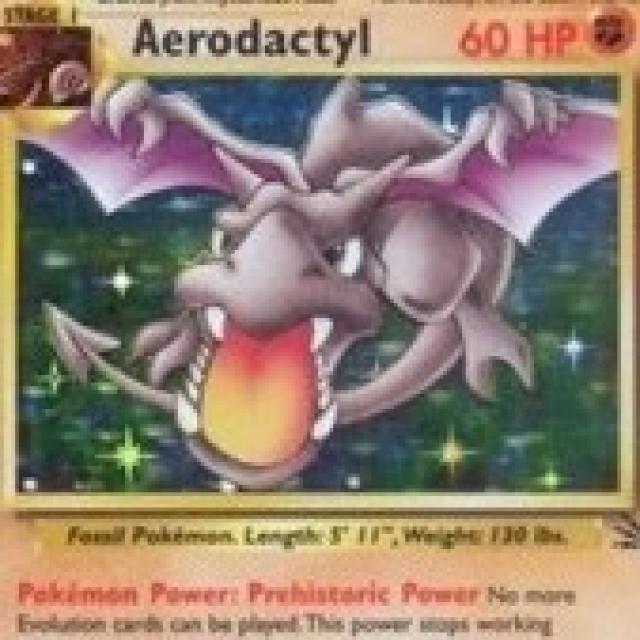Aerodactyl: (181, 93, 547, 470)
